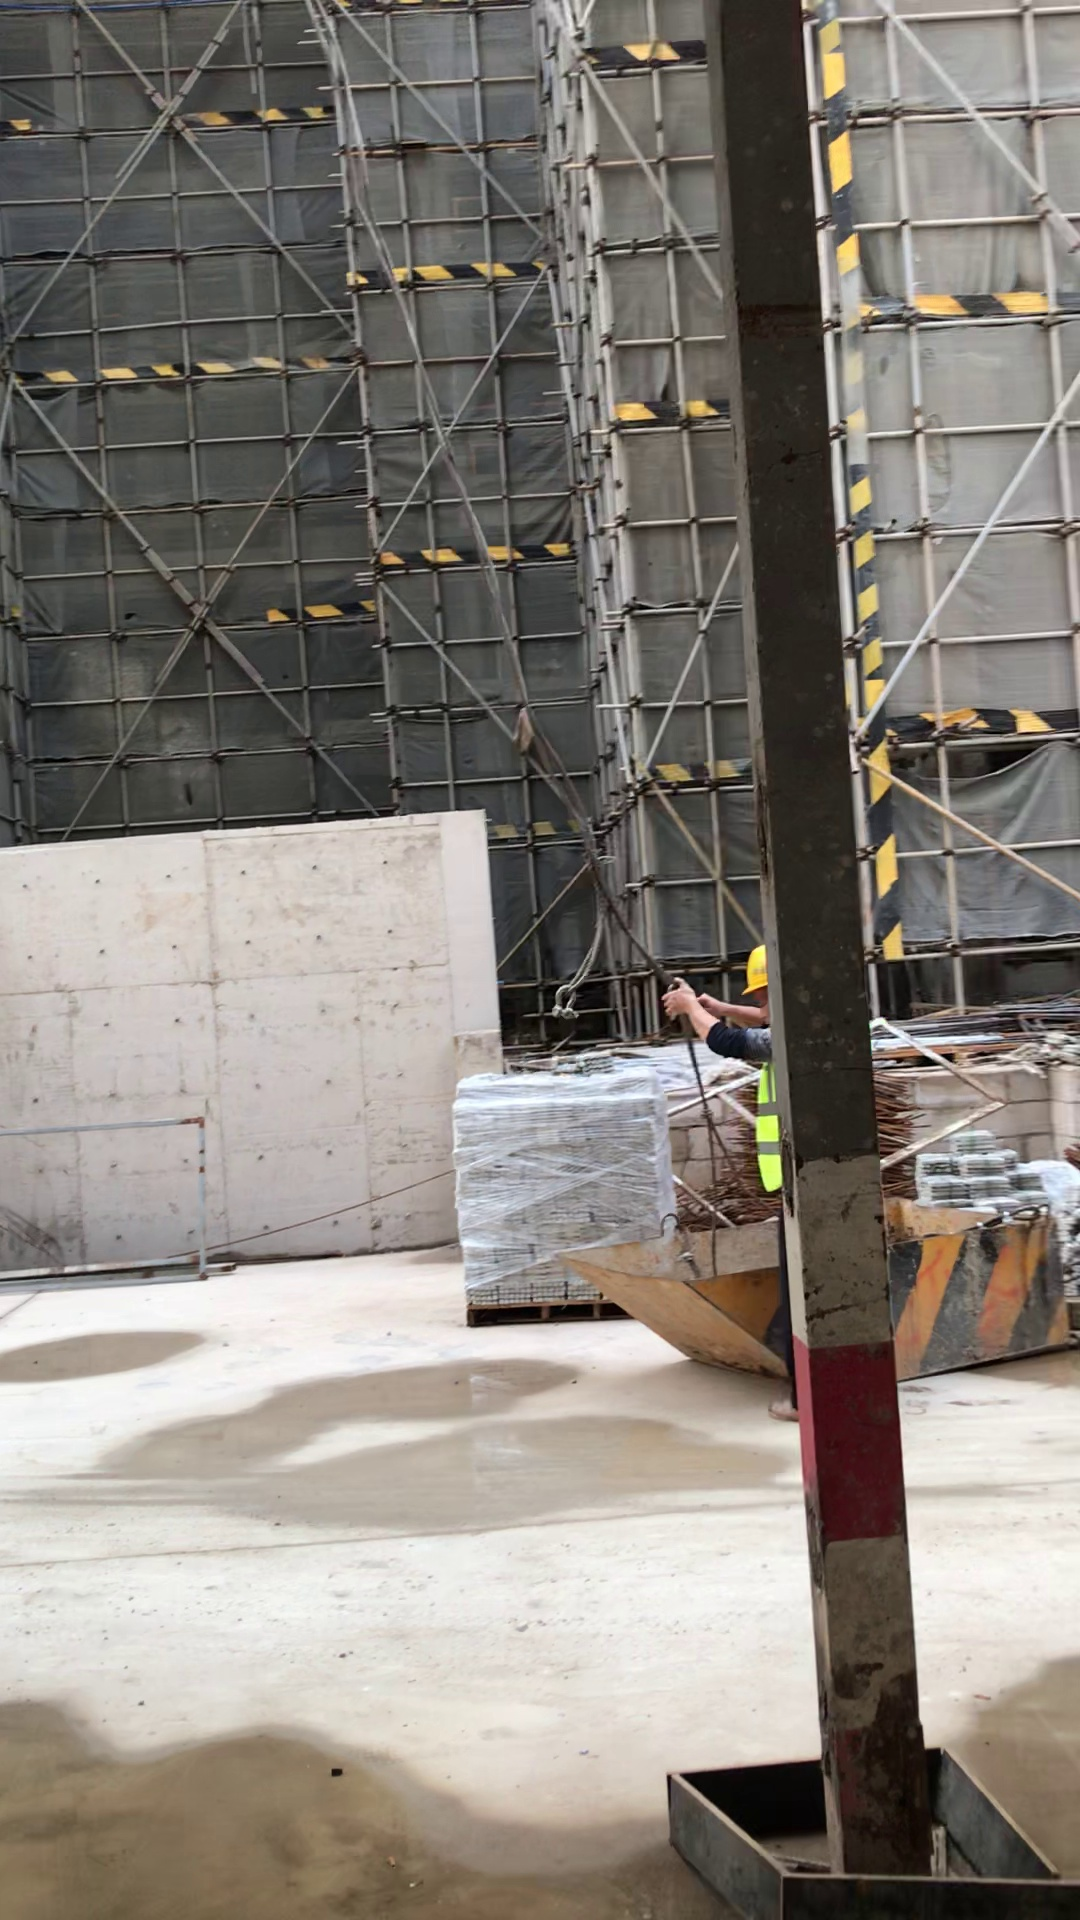helmet: (743, 940, 772, 995)
hopper: (568, 1184, 1078, 1399)
person: (659, 929, 806, 1414)
vest: (747, 1062, 787, 1195)
